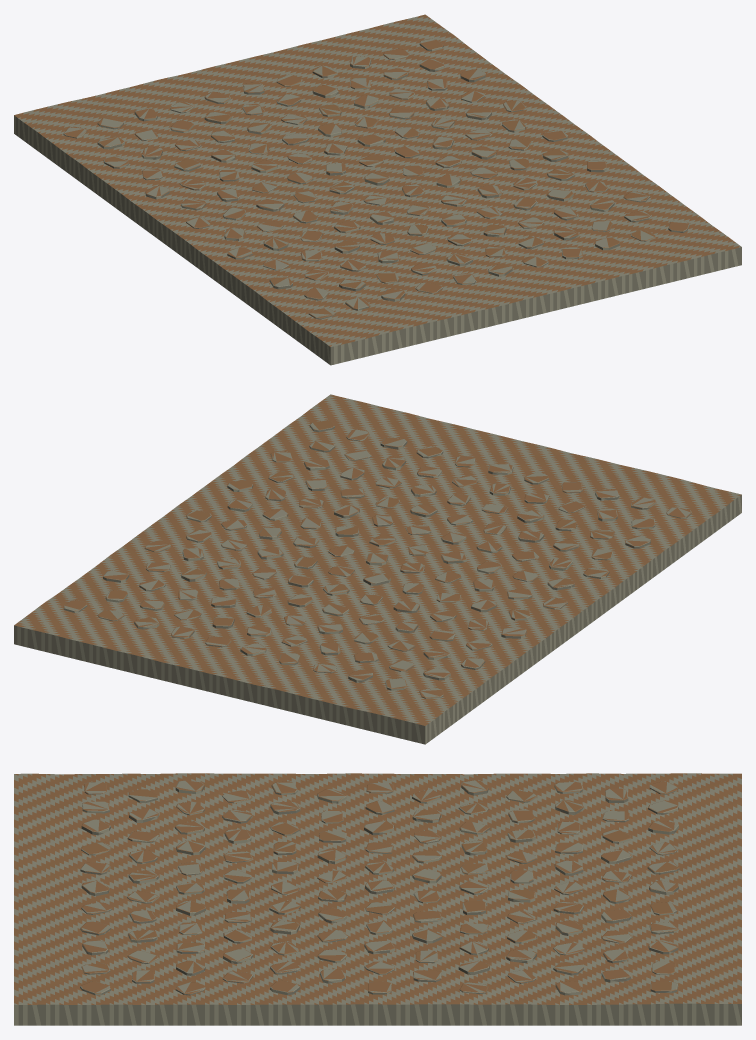
The model's file is rocky_staggered_rocks.dae.
3 renders of one model, top to bottom at view 1: azimuth 30°, elevation 25°; view 2: azimuth 150°, elevation 25°; view 3: azimuth 270°, elevation 25°, orthographic. The views are drawn at different scales.
Parts seen in each view (by area): view 1: terrain_node; view 2: terrain_node; view 3: terrain_node.
Boxes of the visible parts, left/top/right/bottom form: terrain_node: left=14, top=14, right=741, bottom=365; terrain_node: left=14, top=394, right=741, bottom=744; terrain_node: left=14, top=773, right=741, bottom=1025.
Bounding box in the file's own units: 6 × 8 × 0.302.
